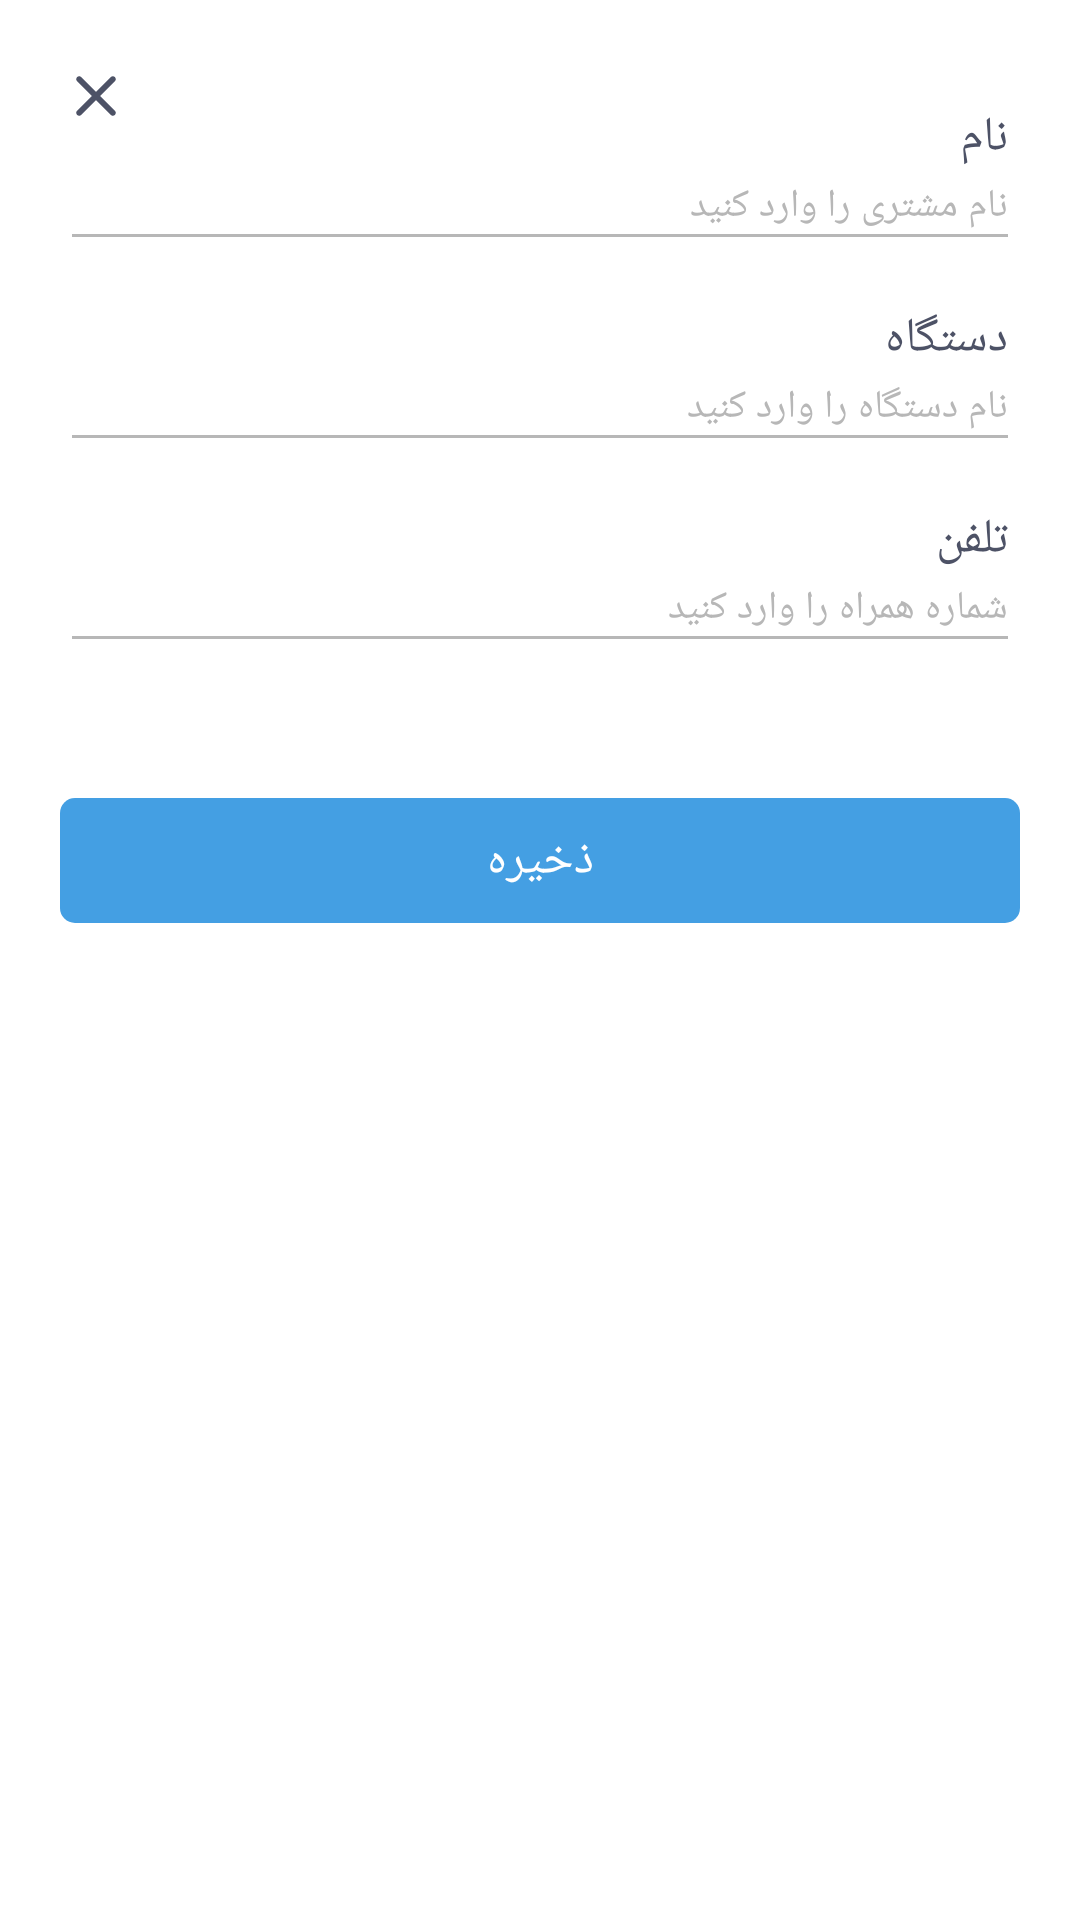

Where to tap for icons on this 1080*1920 app screen, as point (x, y):
close: point (96, 96)
